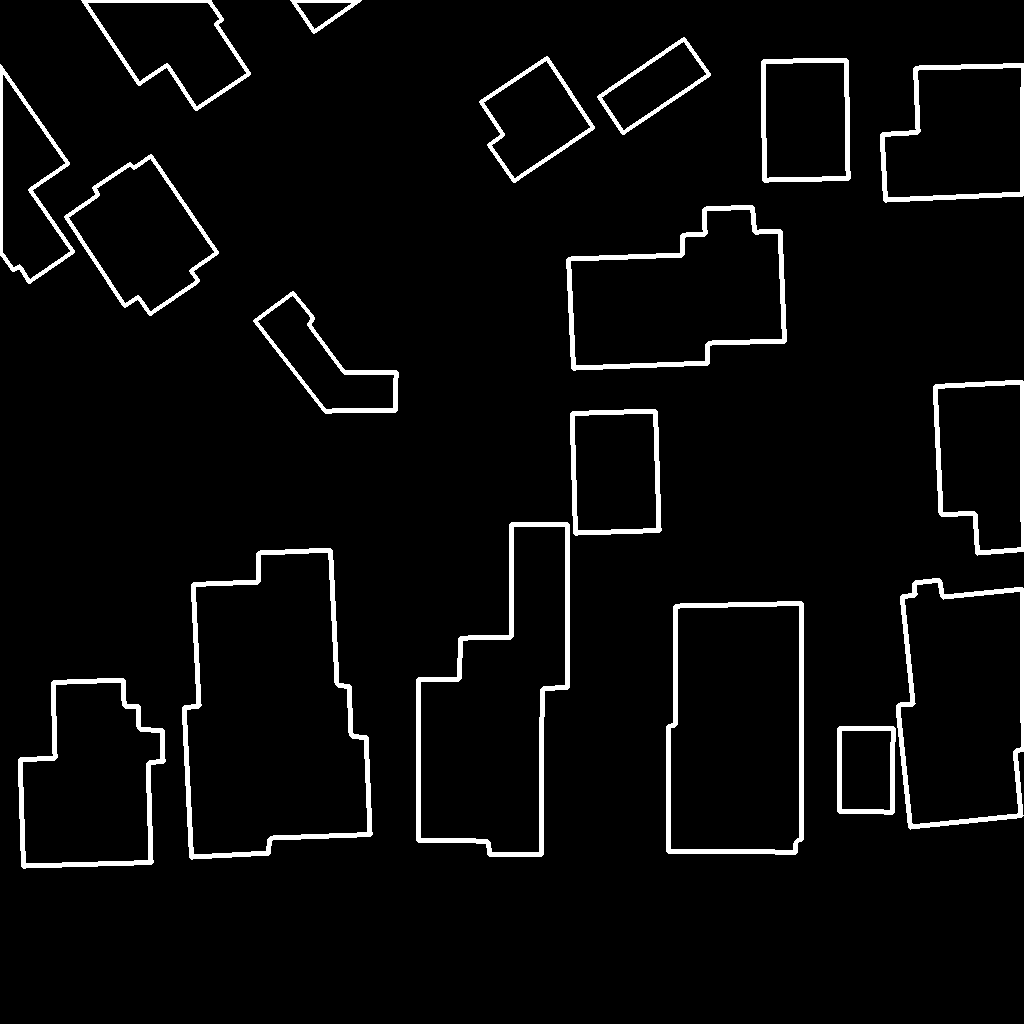building: (184, 550, 371, 858), (418, 524, 568, 855), (568, 207, 786, 369), (668, 603, 802, 853), (898, 580, 1024, 828), (20, 680, 164, 867), (66, 156, 218, 315), (882, 65, 1024, 201), (83, 0, 250, 110), (255, 293, 397, 412), (0, 66, 74, 283), (935, 382, 1024, 554), (481, 58, 594, 182), (572, 411, 660, 534), (599, 39, 710, 134), (763, 60, 849, 181), (839, 728, 894, 813), (292, 0, 361, 33)
